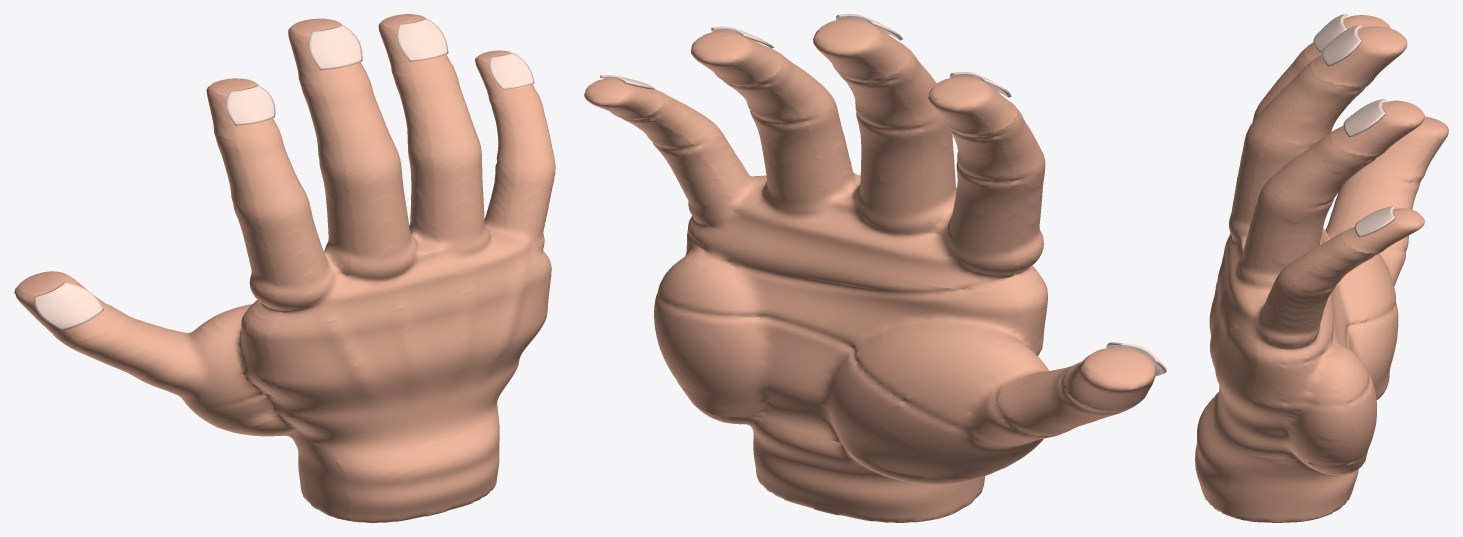
The model's file is family-22.glb.
3 renders of one model, left to right at view 1: azimuth 30°, elevation 25°; view 2: azimuth 150°, elevation 25°; view 3: azimuth 270°, elevation 25°, orthographic. The views are drawn at different scales.
Visible parts, largest first — view 1: baby_fingers__fingers_sculpt, baby_back_of_hand__back_of_hand_sculpt, baby_wrist__wrist_sculpt, baby_fingertips__fingertips_sculpt, baby_nails__thumb_claw, baby_nails__middle_claw, baby_palm__palm_sculpt, baby_nails__ring_claw, baby_nails__index_claw, baby_nails__pinky_claw; view 2: baby_fingers__fingers_sculpt, baby_palm__palm_sculpt, baby_fingertips__fingertips_sculpt, baby_wrist__wrist_sculpt; view 3: baby_fingers__fingers_sculpt, baby_palm__palm_sculpt, baby_fingertips__fingertips_sculpt, baby_wrist__wrist_sculpt, baby_back_of_hand__back_of_hand_sculpt, baby_nails__middle_claw, baby_nails__ring_claw, baby_nails__pinky_claw, baby_nails__index_claw.
Boxes of the visible parts, left/top/right/bottom form: baby_fingers__fingers_sculpt: left=58, top=65, right=555, bottom=429; baby_back_of_hand__back_of_hand_sculpt: left=246, top=250, right=551, bottom=452; baby_wrist__wrist_sculpt: left=241, top=408, right=499, bottom=522; baby_fingertips__fingertips_sculpt: left=14, top=14, right=538, bottom=342; baby_nails__thumb_claw: left=34, top=282, right=103, bottom=330; baby_nails__middle_claw: left=308, top=25, right=362, bottom=70; baby_palm__palm_sculpt: left=213, top=302, right=301, bottom=438; baby_nails__ring_claw: left=396, top=18, right=448, bottom=61; baby_nails__index_claw: left=225, top=85, right=275, bottom=125; baby_nails__pinky_claw: left=489, top=53, right=534, bottom=89; baby_fingers__fingers_sculpt: left=617, top=46, right=1140, bottom=471; baby_palm__palm_sculpt: left=654, top=216, right=1041, bottom=479; baby_fingertips__fingertips_sculpt: left=584, top=19, right=1155, bottom=410; baby_wrist__wrist_sculpt: left=696, top=407, right=984, bottom=522; baby_fingers__fingers_sculpt: left=1221, top=46, right=1424, bottom=348; baby_palm__palm_sculpt: left=1281, top=228, right=1396, bottom=473; baby_fingertips__fingertips_sculpt: left=1304, top=15, right=1448, bottom=253; baby_wrist__wrist_sculpt: left=1195, top=384, right=1387, bottom=522; baby_back_of_hand__back_of_hand_sculpt: left=1209, top=235, right=1284, bottom=459; baby_nails__middle_claw: left=1321, top=25, right=1362, bottom=66; baby_nails__ring_claw: left=1343, top=99, right=1386, bottom=137; baby_nails__pinky_claw: left=1354, top=206, right=1395, bottom=237; baby_nails__index_claw: left=1313, top=14, right=1347, bottom=52.
Bounding box in the file's own units: 0.1019 × 0.0868 × 0.0457.
